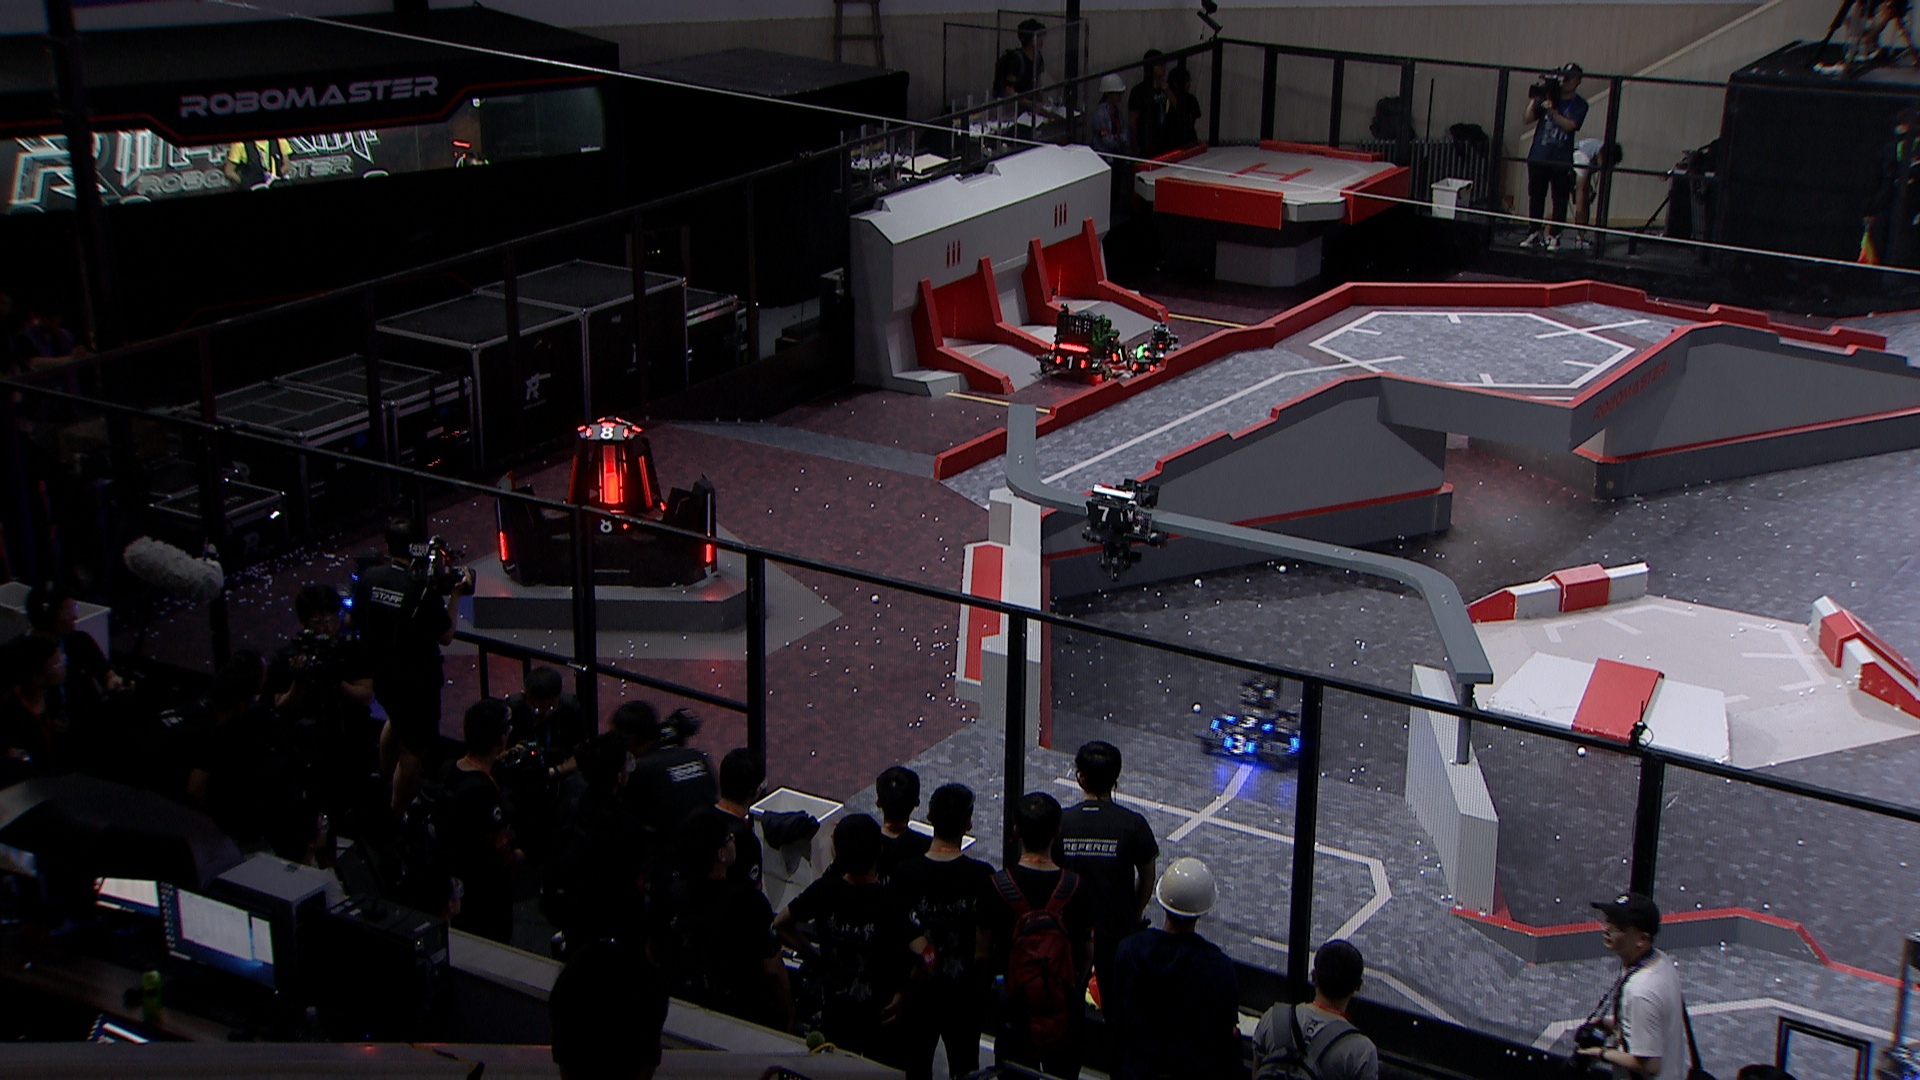armor: (1222, 712, 1276, 733), (636, 452, 654, 512), (1083, 504, 1126, 526), (564, 451, 580, 509), (600, 469, 622, 506), (1222, 733, 1255, 757), (580, 425, 628, 440), (593, 516, 629, 534), (495, 527, 512, 564), (1054, 353, 1087, 372), (700, 542, 717, 566), (1110, 345, 1130, 363), (1143, 348, 1168, 360)
base: (493, 415, 723, 589)
car: (1192, 669, 1313, 771), (1036, 305, 1131, 384), (1124, 320, 1187, 380)
watcher: (1077, 477, 1168, 582)
